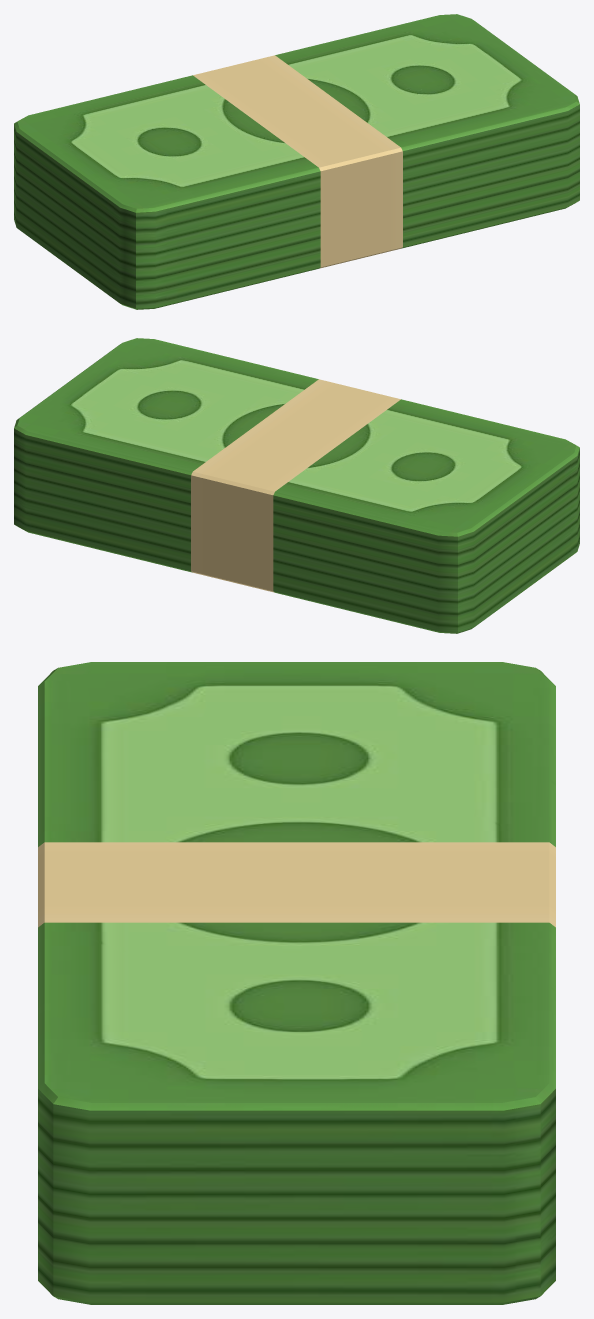
The model's file is Cash (1).fbx.
3 views of the same model, one above another, from view 1: azimuth 30°, elevation 25°; view 2: azimuth 150°, elevation 25°; view 3: azimuth 270°, elevation 25° (orthographic). The views are drawn at different scales.
Parts seen in each view (by area): view 1: Cash; view 2: Cash; view 3: Cash.
Part boxes in pixels (x1,y1,x2,y2): Cash: (14, 14, 579, 309); Cash: (14, 338, 579, 633); Cash: (38, 662, 555, 1304).
Size of the model in its own units: 1 by 0.2112 by 0.4904.
